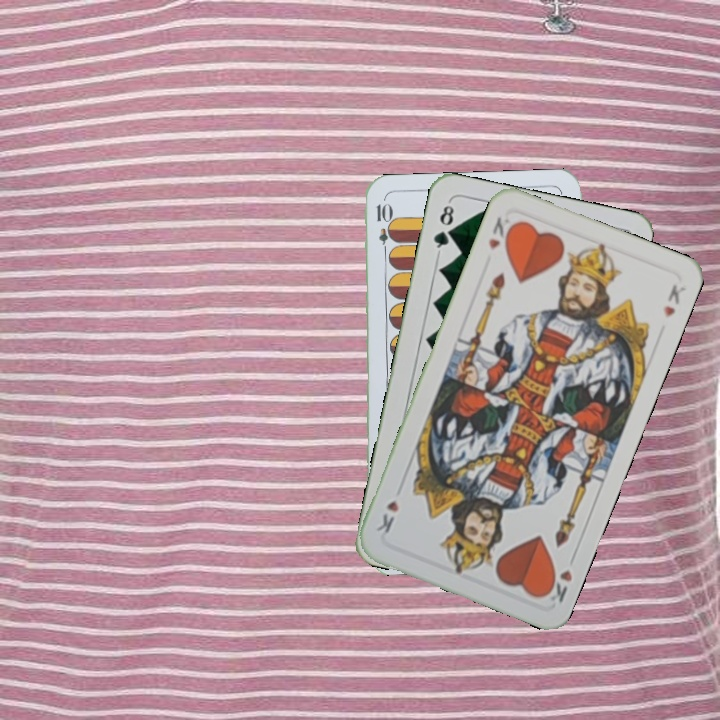E10: (372, 199, 392, 259)
G8: (429, 198, 457, 256)
HK: (539, 550, 579, 606), (484, 212, 517, 253)
